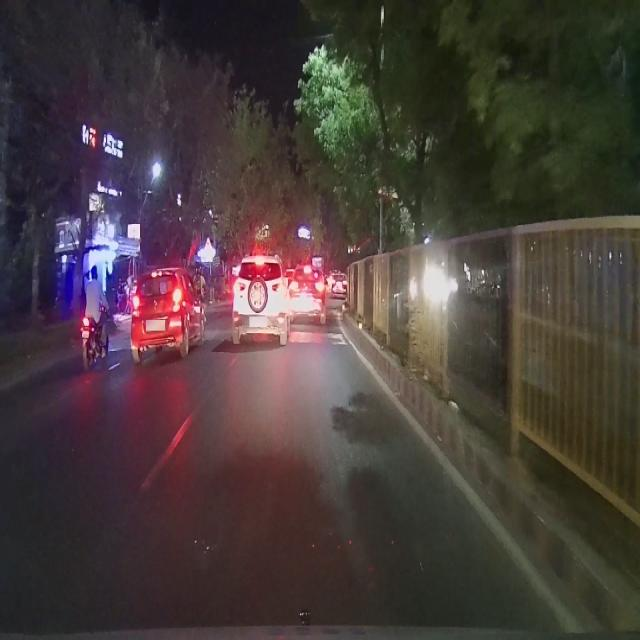car ahead at: (132, 265, 206, 361), (232, 260, 288, 350), (288, 263, 328, 323)
